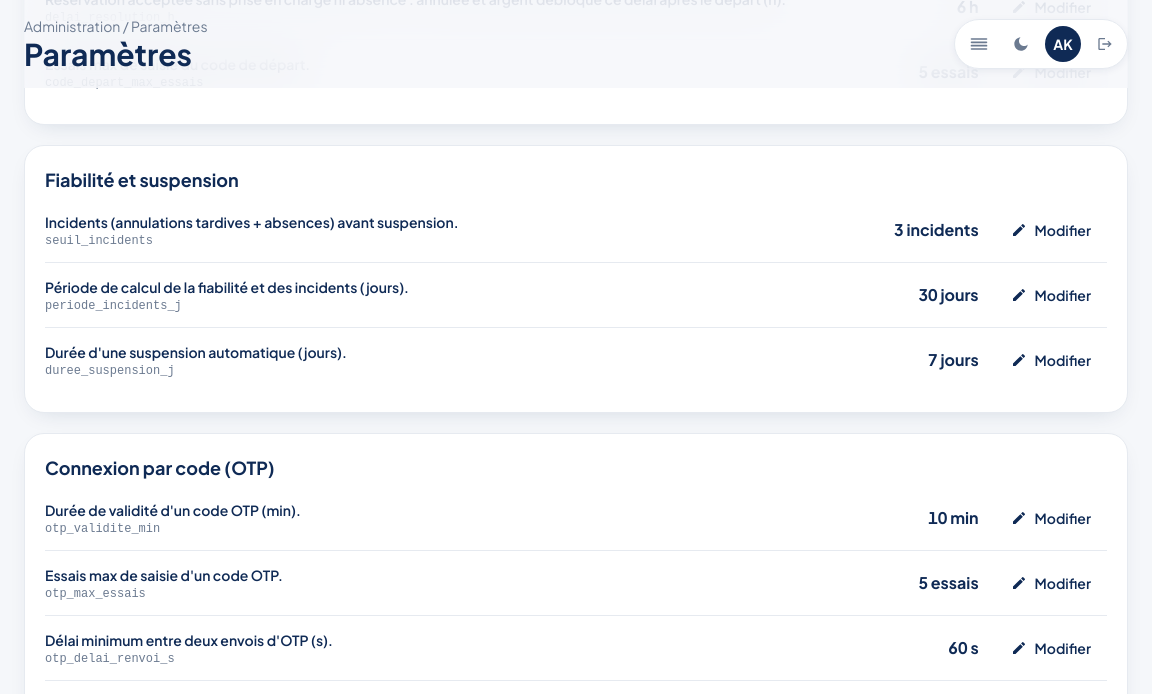
paramètres › refuse 0 quand le minimum est 1, sans appeler l’API
This screenshot has width=1152, height=694.
(page scrolled)
Click the button "Modifier" in the row of "duree_suspension_j" at (1051, 360), box x1=995 y1=340 x2=1107 y2=380
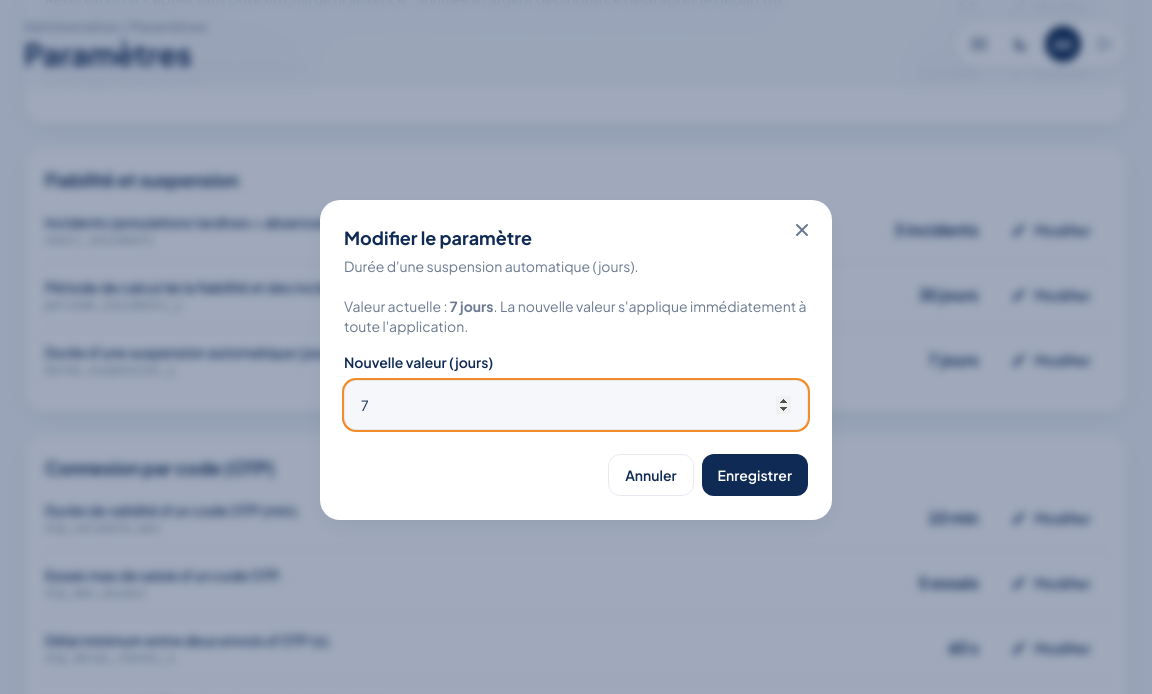
Replace the text in the number field labelled "Nouvelle valeur (jours)" with "0" at (576, 405), box x1=361 y1=381 x2=791 y2=429
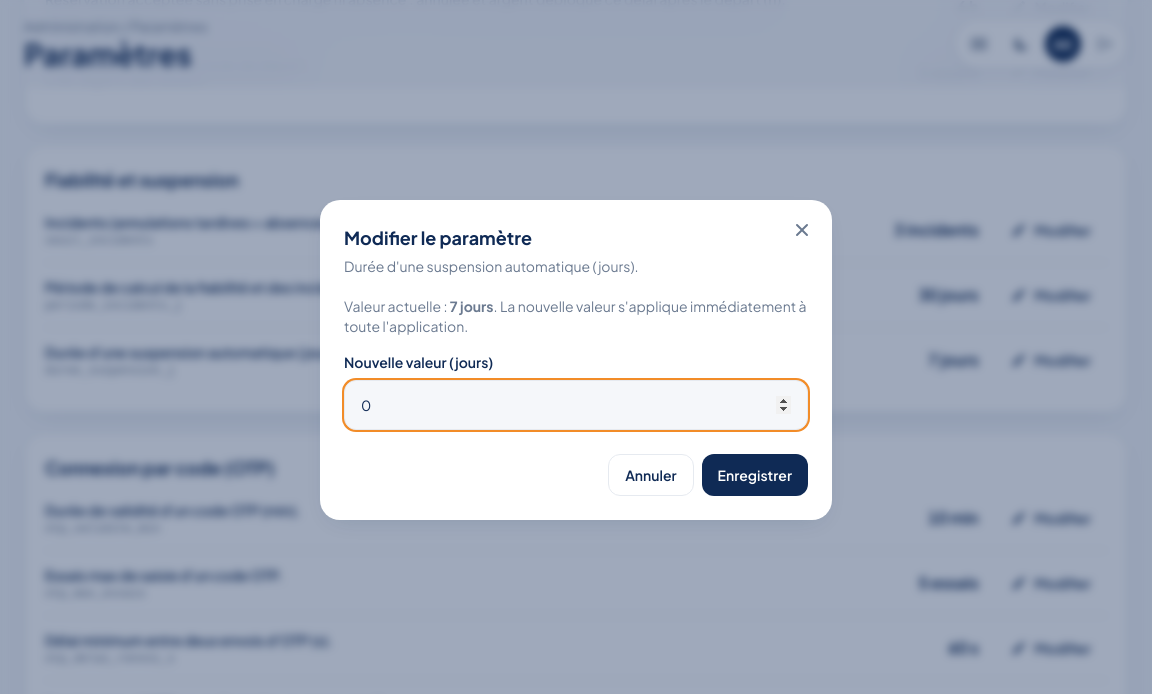
Click the button "Enregistrer" at (755, 475), box x1=702 y1=454 x2=808 y2=496
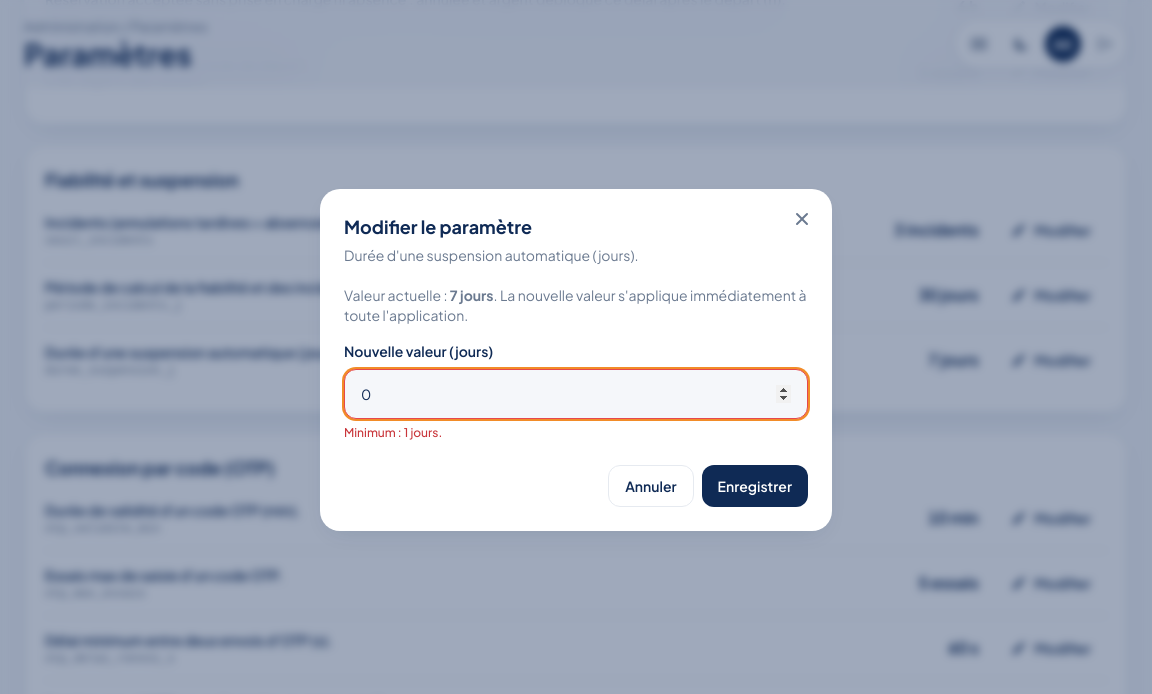
Expected: the text "Minimum : 1 jours." is shown, x1=344 y1=425 x2=442 y2=440
